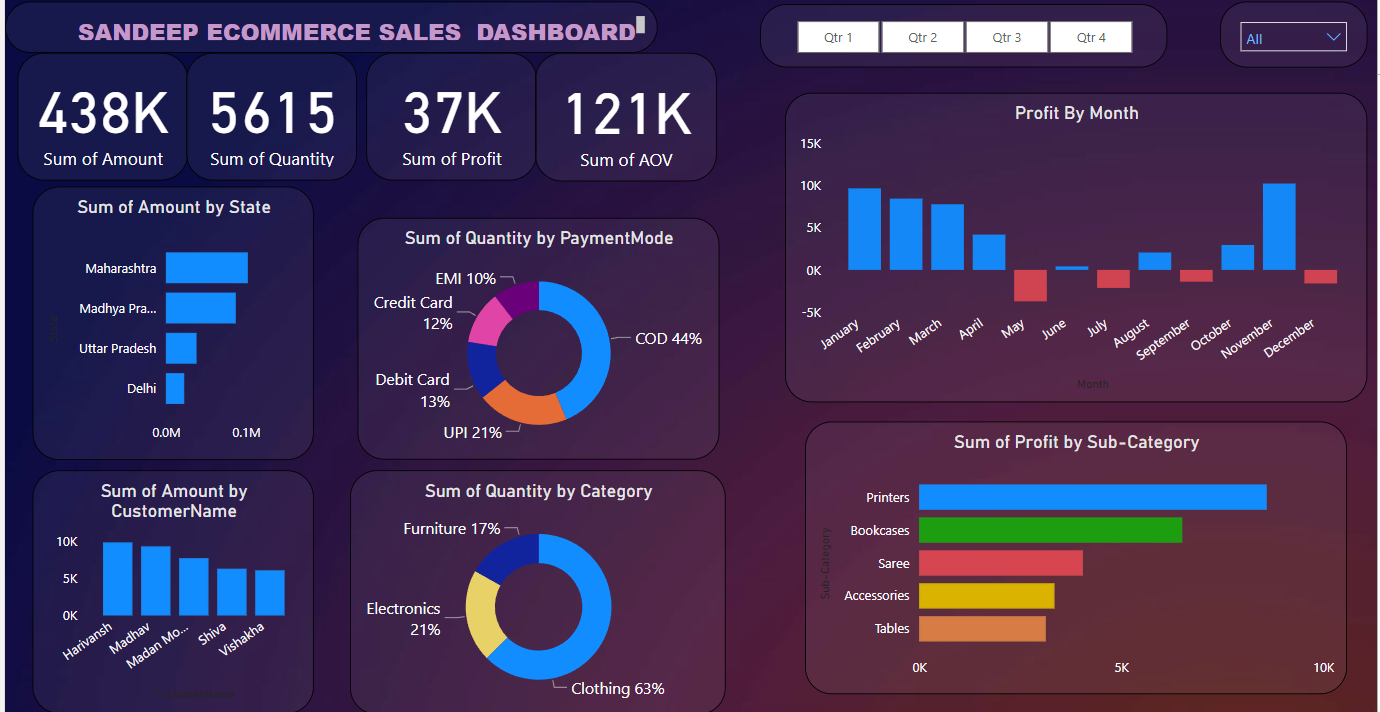

What the dashboard file says about the page in this screenshot:
{"tool":"powerbi","page":{"name":"Page 1","canvas":[1280,720],"ordinal":0},"visuals":[{"type":"textbox","box":[0,32.3,552.7,56.5],"z":0},{"type":"columnChart","title":"Profit By Month","fields":{"Category":["Orders.Order Date.Variation.Date Hierarchy.Month"],"Y":["Details.Profit"]},"box":[727.6,110.3,543.3,289.1],"z":1000},{"type":"barChart","fields":{"Category":["Details.Sub-Category"],"Y":["Details.Profit"]},"box":[746.4,416.9,505.7,254.2],"z":2000},{"type":"donutChart","fields":{"Category":["Details.Category"],"Y":["Details.Quantity"]},"box":[328.1,454.6,351,227.3],"z":2001},{"type":"donutChart","fields":{"Category":["Details.PaymentMode","Details.Category"],"Y":["Details.Quantity"]},"box":[327.3,211.7,337.7,226],"z":2002},{"type":"card","fields":{"Values":["Details.Amount"]},"box":[11.1,73.3,158.9,118.9],"z":2003},{"type":"card","fields":{"Values":["Details.Profit"]},"box":[336.7,73.3,158.9,118.9],"z":2004},{"type":"card","fields":{"Values":["Details.AOV"]},"box":[494.9,74,169.4,119.7],"z":2005},{"type":"card","fields":{"Values":["Details.Quantity"]},"box":[168.9,73.3,158.9,118.9],"z":2006},{"type":"barChart","fields":{"Category":["Orders.State"],"Y":["Details.Amount"]},"box":[25.6,182.9,262.2,254.2],"z":2007},{"type":"columnChart","fields":{"Category":["Orders.CustomerName"],"Y":["Details.Amount"]},"box":[26,455,262,227],"z":2008},{"type":"slicer","fields":{"Values":["Orders.Order Date.Variation.Date Hierarchy.Quarter"]},"box":[521.8,29.6,411.5,59.2],"z":2009},{"type":"slicer","fields":{"Values":["Orders.State"]},"box":[887.6,26.9,364.4,61.9],"z":2010}]}

Visuals, with their boxes on the page's 1280x720 design canvas (x1, y1, x2, y2). These are canvas units, not pixel positions in the 1380x712 screenshot, which may show the page scaled, cropped or inside an application window:
textbox: [x1=0, y1=32, x2=553, y2=89]
"Profit By Month" columnChart: [x1=728, y1=110, x2=1271, y2=399]
barChart - Details.Sub-Category x Details.Profit: [x1=746, y1=417, x2=1252, y2=671]
donutChart - Details.Category x Details.Quantity: [x1=328, y1=455, x2=679, y2=682]
donutChart - Details.PaymentMode x Details.Category: [x1=327, y1=212, x2=665, y2=438]
card - Details.Amount: [x1=11, y1=73, x2=170, y2=192]
card - Details.Profit: [x1=337, y1=73, x2=496, y2=192]
card - Details.AOV: [x1=495, y1=74, x2=664, y2=194]
card - Details.Quantity: [x1=169, y1=73, x2=328, y2=192]
barChart - Orders.State x Details.Amount: [x1=26, y1=183, x2=288, y2=437]
columnChart - Orders.CustomerName x Details.Amount: [x1=26, y1=455, x2=288, y2=682]
slicer - Orders.Order Date.Variation.Date Hierarchy.Quarter: [x1=522, y1=30, x2=933, y2=89]
slicer - Orders.State: [x1=888, y1=27, x2=1252, y2=89]
